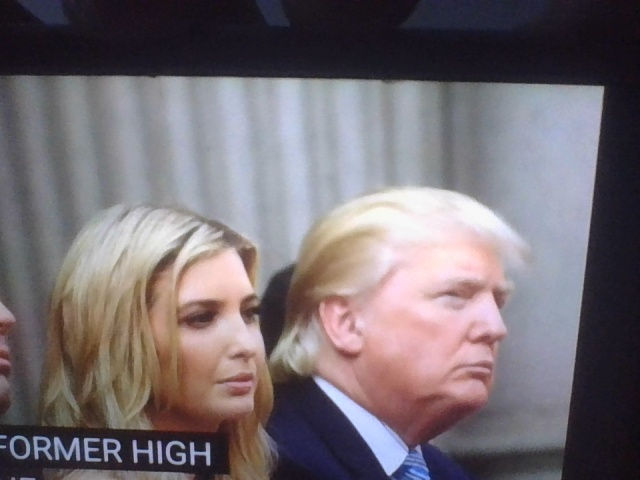fake: (329, 153, 534, 443), (115, 198, 284, 437)
